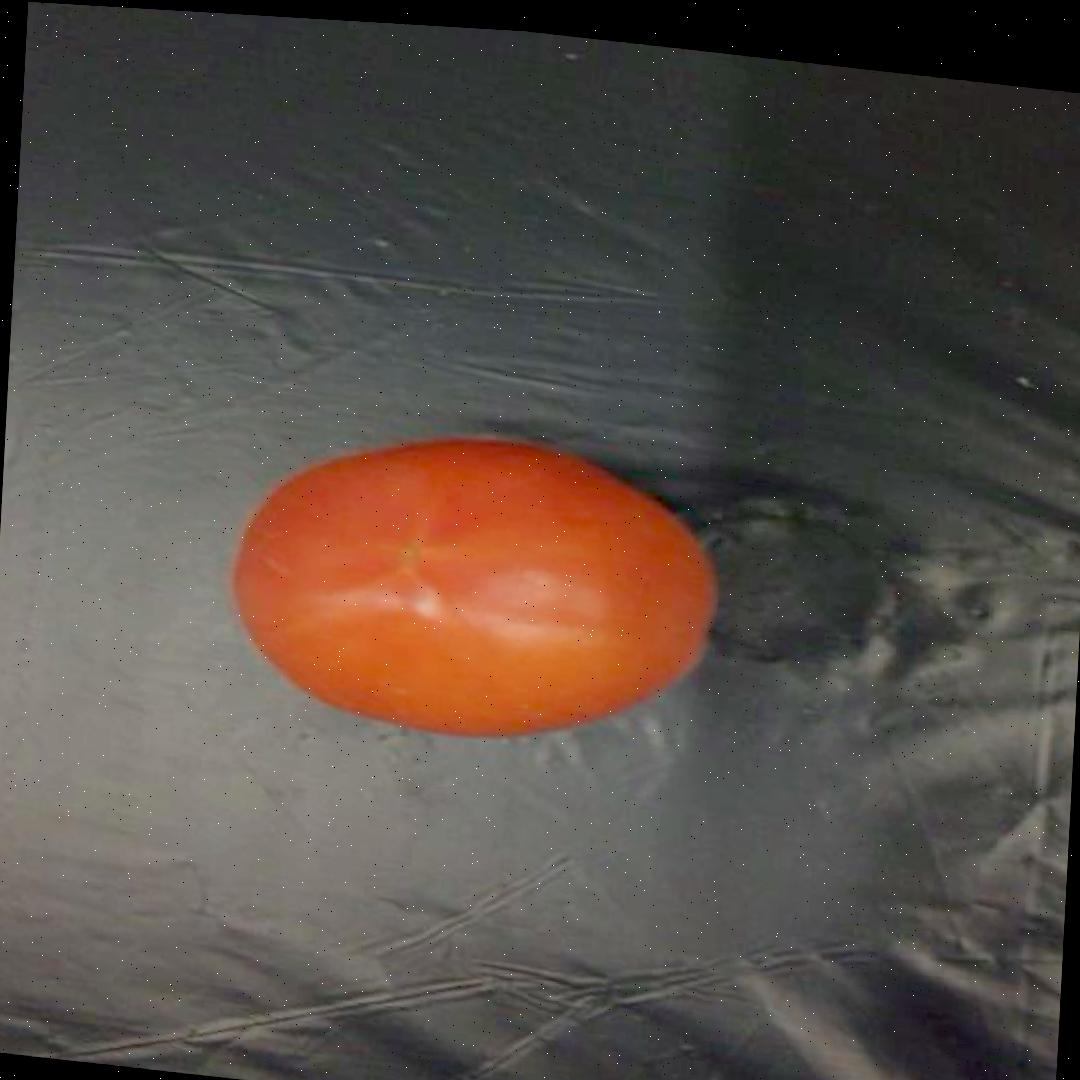matang: (224, 411, 720, 766)
